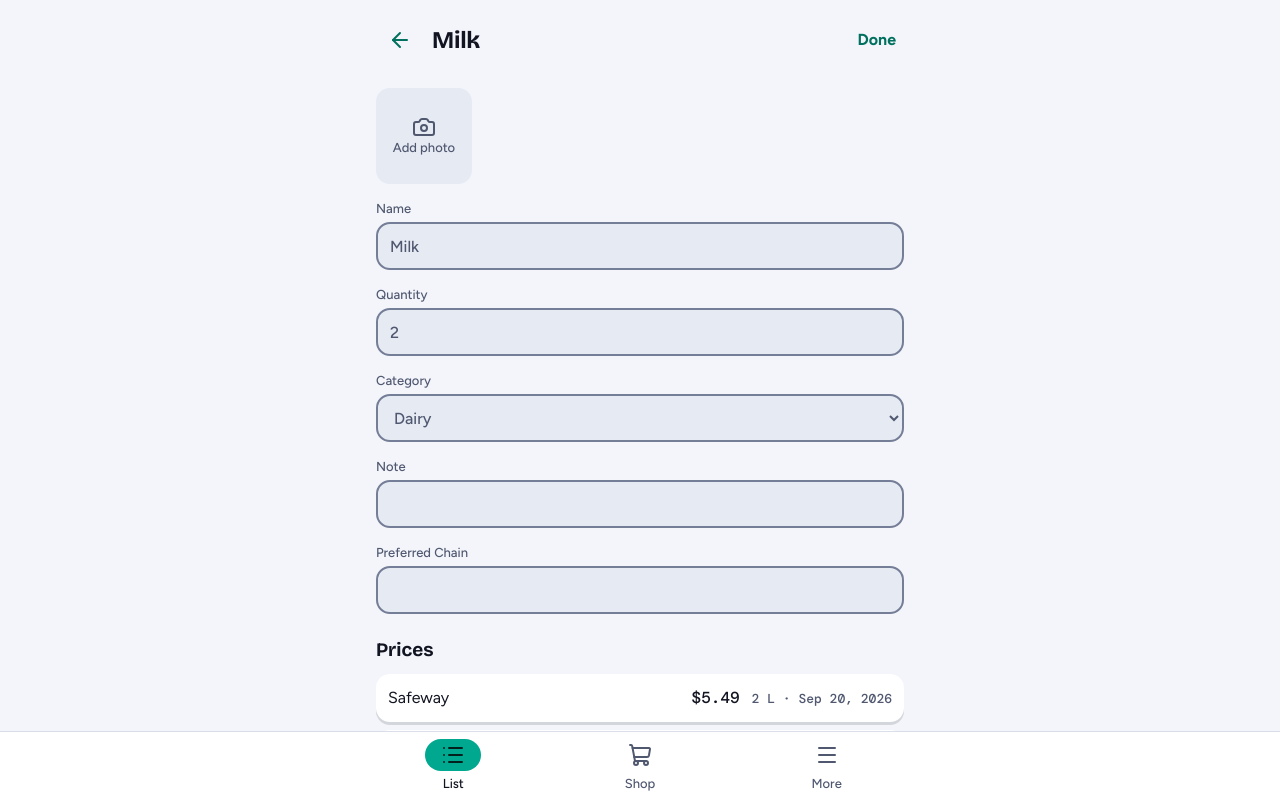
keeps typed chain and shows an error for a hang save
Type "Costco" into the dropdown labelled "Preferred Chain". click: (640, 590)
box: [376,566,904,614]
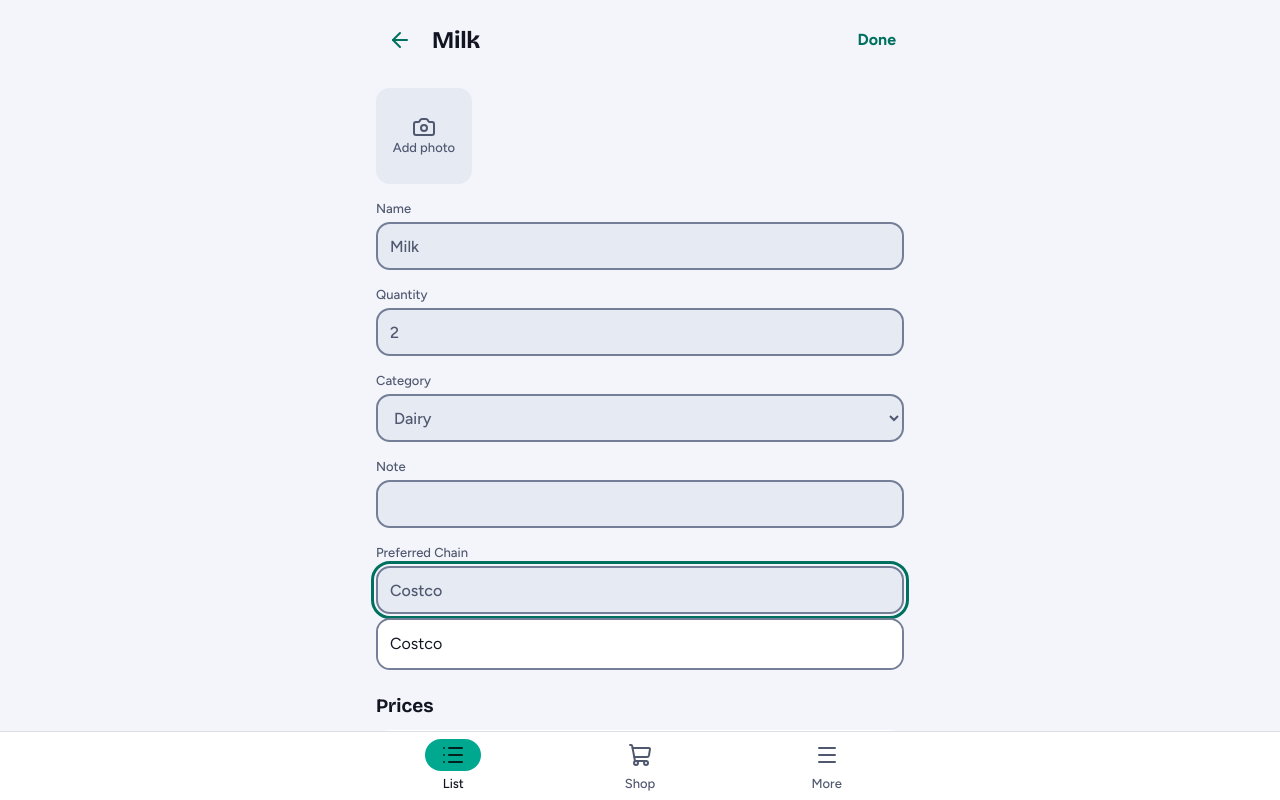
Click the button "Done". click: (877, 40)
box: [850,16,904,64]
Wait 8100 ms
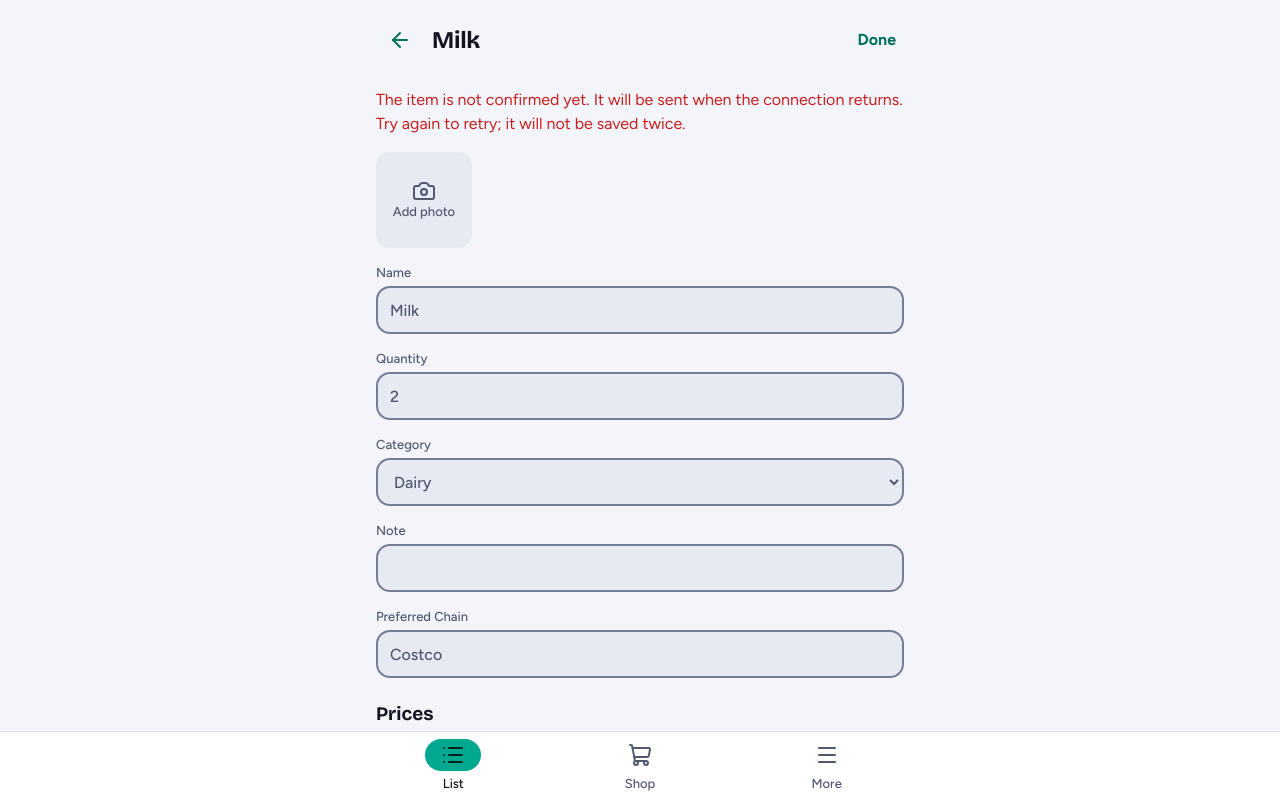
Expected: the message shows "not confirmed yet", [376,90,902,133]
